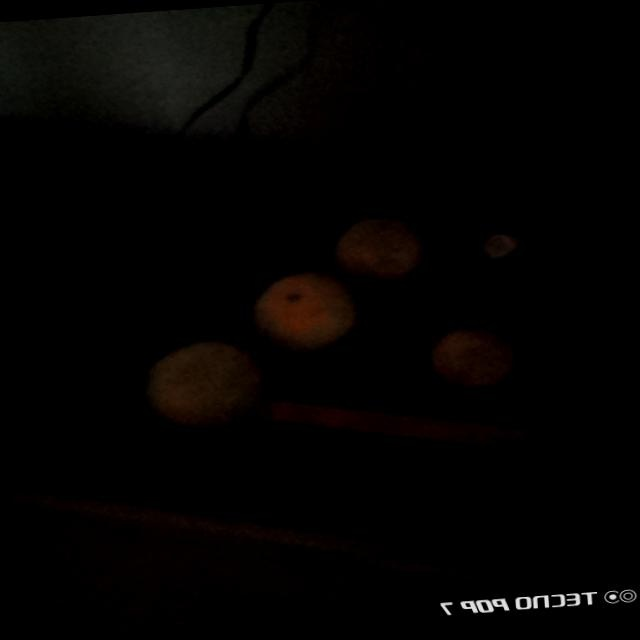agrume: (137, 335, 266, 430), (252, 265, 350, 367), (432, 327, 525, 398), (335, 219, 418, 287)
